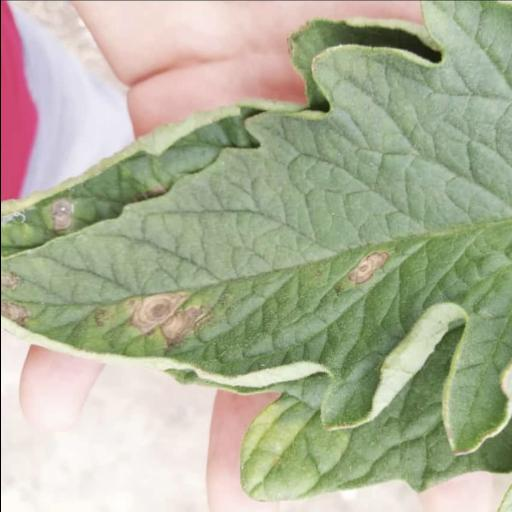disease_tomato: (0, 0, 512, 460)
